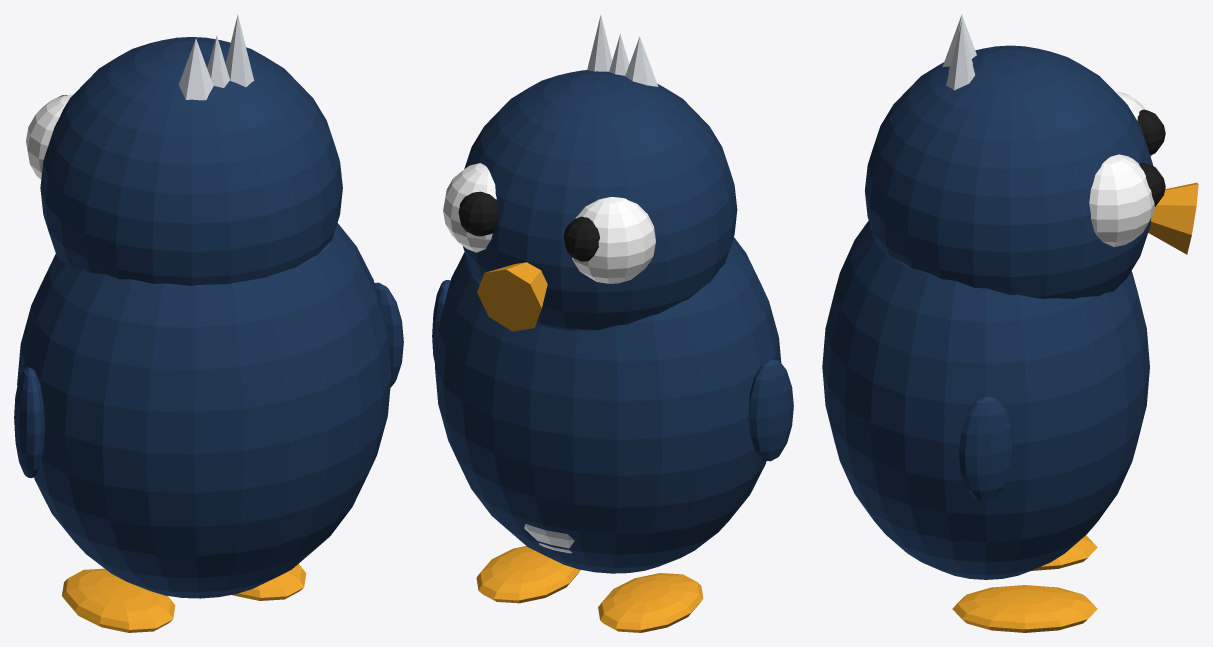
Rendered from alien_pingui.fbx.
3 views of the same model, side by side, from view 1: azimuth 30°, elevation 25°; view 2: azimuth 150°, elevation 25°; view 3: azimuth 270°, elevation 25° (orthographic). The views are drawn at different scales.
Parts seen in each view (by area): view 1: Pingui_Body, Pingui_Head, Pingui_Foot_L, Pingui_Flipper_L, Pingui_Eye_L, Pingui_Flipper_R, Pingui_Foot_R, Pingui_IceCrown_0, Pingui_IceCrown_2, Pingui_IceCrown_1; view 2: Pingui_Body, Pingui_Head, Pingui_Eye_L, Pingui_Foot_L, Pingui_Foot_R, Pingui_Flipper_L, Pingui_Beak, Pingui_Eye_R, Pingui_Pupil_R, Pingui_Pupil_L, Pingui_IceCrown_0, Pingui_IceCrown_2 (+2 smaller); view 3: Pingui_Body, Pingui_Head, Pingui_Foot_R, Pingui_Eye_R, Pingui_Flipper_R, Pingui_Beak, Pingui_IceCrown_2, Pingui_Pupil_L, Pingui_Foot_L, Pingui_Pupil_R.
Boxes of the visible parts, bbox=[...] form: Pingui_Body: bbox=[17, 223, 391, 598]; Pingui_Head: bbox=[40, 37, 342, 285]; Pingui_Foot_L: bbox=[62, 568, 175, 632]; Pingui_Flipper_L: bbox=[14, 367, 44, 477]; Pingui_Eye_L: bbox=[26, 94, 73, 179]; Pingui_Flipper_R: bbox=[374, 282, 403, 387]; Pingui_Foot_R: bbox=[232, 564, 306, 600]; Pingui_IceCrown_0: bbox=[178, 38, 213, 100]; Pingui_IceCrown_2: bbox=[225, 14, 254, 87]; Pingui_IceCrown_1: bbox=[207, 35, 229, 87]; Pingui_Body: bbox=[435, 237, 781, 573]; Pingui_Head: bbox=[463, 70, 737, 330]; Pingui_Eye_L: bbox=[572, 197, 655, 283]; Pingui_Foot_L: bbox=[598, 573, 703, 632]; Pingui_Foot_R: bbox=[476, 546, 580, 603]; Pingui_Flipper_L: bbox=[748, 359, 793, 461]; Pingui_Beak: bbox=[477, 262, 547, 331]; Pingui_Eye_R: bbox=[443, 163, 496, 252]; Pingui_Pupil_R: bbox=[458, 191, 498, 236]; Pingui_Pupil_L: bbox=[563, 216, 599, 261]; Pingui_IceCrown_0: bbox=[625, 36, 658, 86]; Pingui_IceCrown_2: bbox=[587, 14, 612, 71]; Pingui_Body: bbox=[822, 220, 1149, 579]; Pingui_Head: bbox=[865, 45, 1153, 298]; Pingui_Foot_R: bbox=[952, 585, 1097, 632]; Pingui_Eye_R: bbox=[1089, 154, 1154, 247]; Pingui_Flipper_R: bbox=[958, 396, 1013, 501]; Pingui_Beak: bbox=[1148, 182, 1198, 254]; Pingui_IceCrown_2: bbox=[946, 21, 974, 90]; Pingui_Pupil_L: bbox=[1137, 109, 1165, 155]; Pingui_Foot_L: bbox=[1031, 535, 1097, 570]; Pingui_Pupil_R: bbox=[1138, 163, 1165, 206].
Bounding box in the file's own units: 0.8693 × 1.32 × 0.7753.
